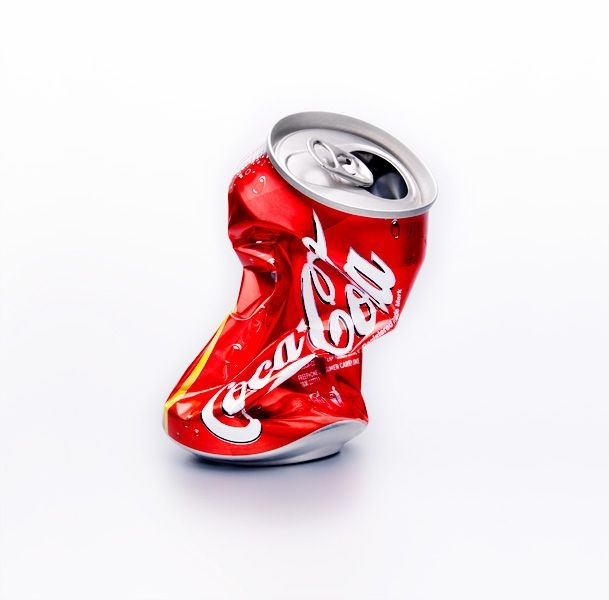metal: (148, 87, 457, 480)
